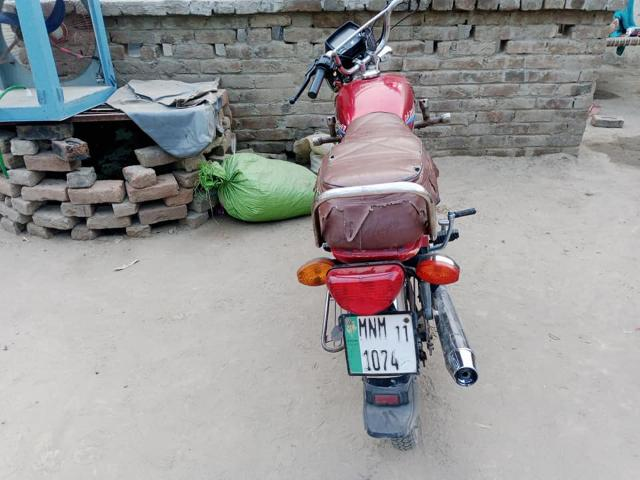plate: (336, 312, 436, 382)
